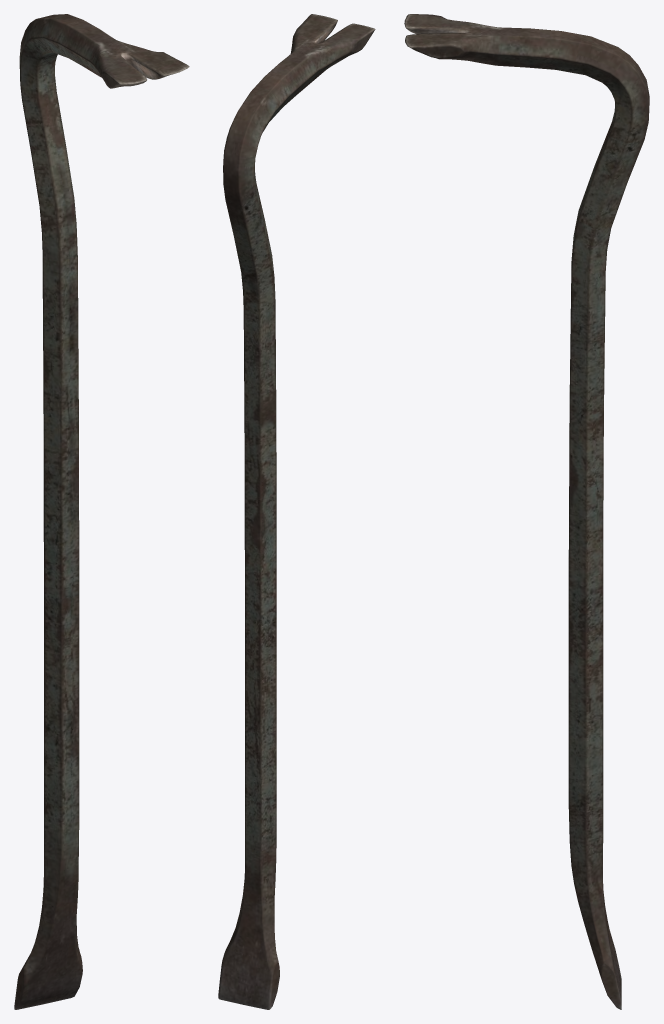
File: crowbar_01.gltf
The picture shows the model from 3 angles, left to right: view 1: azimuth 30°, elevation 25°; view 2: azimuth 150°, elevation 25°; view 3: azimuth 270°, elevation 25°; orthographic projection. The views are drawn at different scales.
Visible parts, largest first — view 1: crowbar_01; view 2: crowbar_01; view 3: crowbar_01.
Part boxes in pixels (box(x1,y1,x2,y2)): crowbar_01: box(14, 14, 189, 1009); crowbar_01: box(218, 14, 375, 1009); crowbar_01: box(404, 14, 649, 1009).
Size of the model in its own units: 0.0404 by 0.5554 by 0.1276.
1 material, 1 textured.
